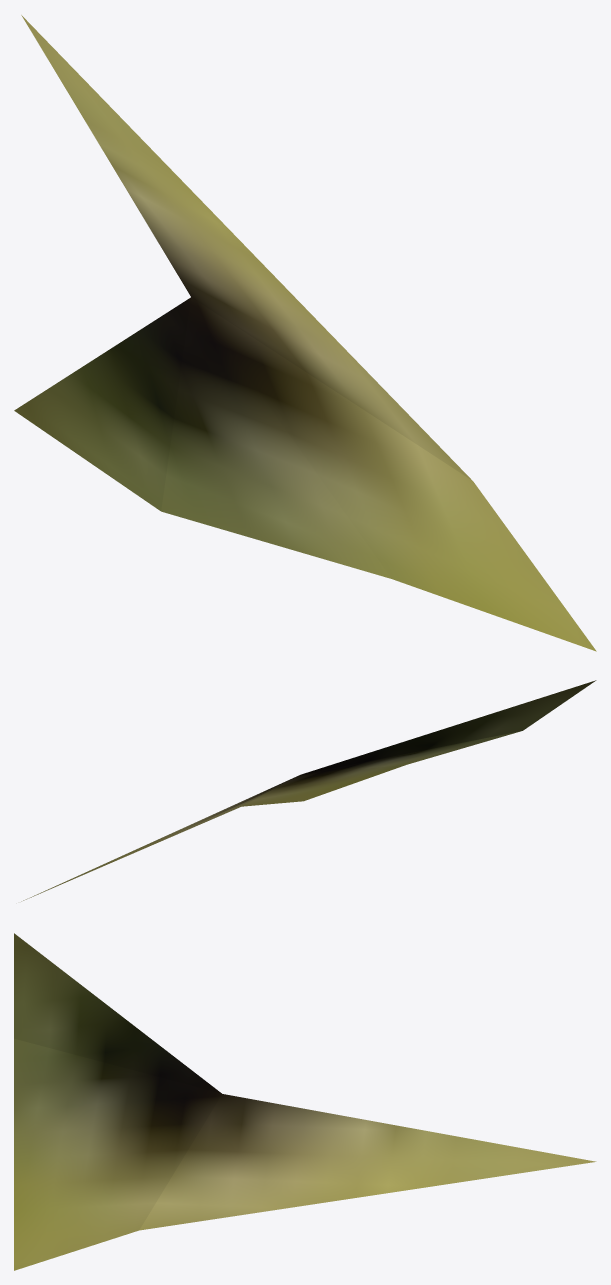
The picture shows the model from 3 angles, top to bottom: view 1: azimuth 30°, elevation 25°; view 2: azimuth 150°, elevation 25°; view 3: azimuth 270°, elevation 25°; orthographic projection. The views are drawn at different scales.
Bounding box in the file's own units: 0.4917 × 0.3089 × 0.8417.
1 material, 1 textured.
